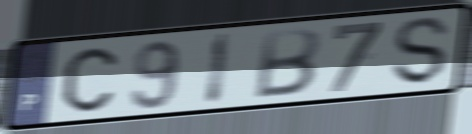7: (326, 19, 385, 95)
9: (127, 37, 183, 112)
B: (250, 25, 323, 101)
C: (60, 45, 120, 115)
I: (202, 30, 235, 107)
S: (391, 15, 452, 88)
